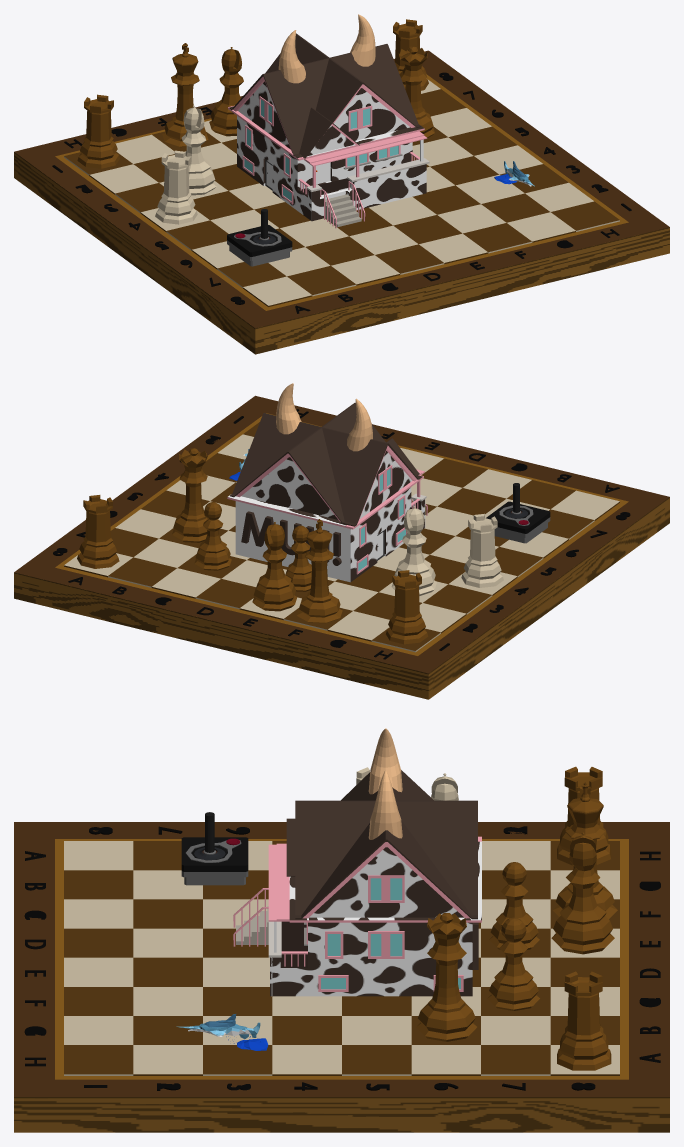
The picture shows the model from 3 angles, top to bottom: view 1: azimuth 30°, elevation 25°; view 2: azimuth 150°, elevation 25°; view 3: azimuth 270°, elevation 25°; orthographic projection. The views are drawn at different scales.
Parts seen in each view (by area): view 1: Cube.002, Cube.1242, OBJRANDOM_JOYSTICK; view 2: Cube.002, Cube.1242, OBJRANDOM_JOYSTICK; view 3: Cube.002, Cube.1242, OBJRANDOM_JOYSTICK, ANIMAL_PEZ_ESPADA.
Part boxes in pixels (x1,y1,x2,y2): Cube.002: (14,19,669,354); Cube.1242: (228,14,429,228); OBJRANDOM_JOYSTICK: (227,209,292,266); Cube.002: (14,395,669,699); Cube.1242: (227,383,427,582); OBJRANDOM_JOYSTICK: (486,483,550,543); Cube.002: (14,766,669,1132); Cube.1242: (233,728,481,996); OBJRANDOM_JOYSTICK: (181,812,248,885); ANIMAL_PEZ_ESPADA: (176,1014,268,1050).
Bounding box in the file's own units: 3981 × 1751 × 4012.
Materials: 34 (2 with a texture image).
